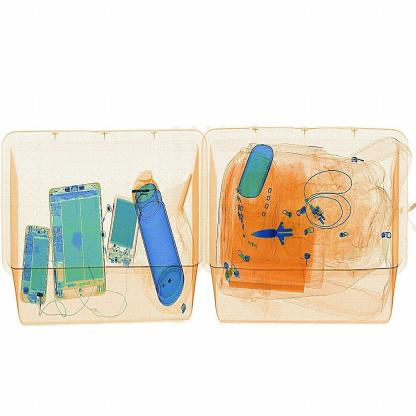gun: (250, 206, 316, 261)
